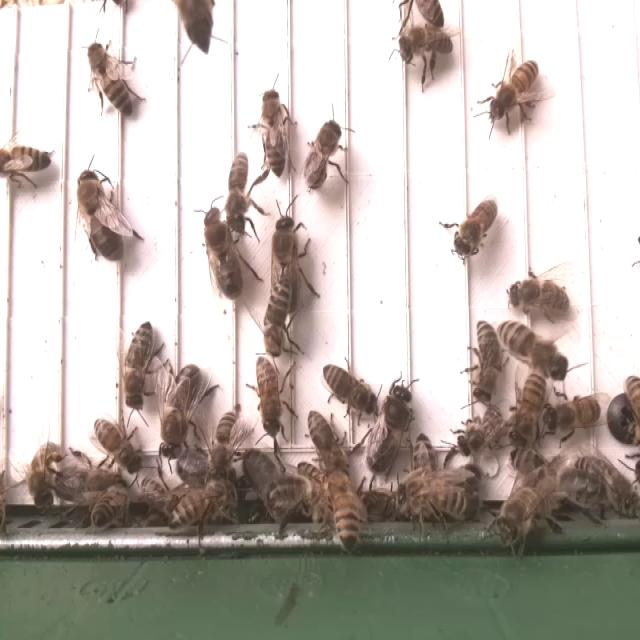Drone: (74, 164, 126, 263), (364, 381, 415, 479), (199, 207, 246, 302), (159, 363, 205, 458), (53, 460, 130, 508), (272, 212, 307, 314)
Worker: (497, 318, 567, 376), (484, 58, 542, 126), (86, 38, 134, 118), (118, 319, 157, 412), (320, 359, 381, 414), (451, 405, 507, 462), (466, 316, 502, 404), (505, 273, 573, 318), (304, 116, 344, 192), (450, 196, 498, 259), (92, 415, 141, 476), (395, 22, 457, 67), (253, 354, 285, 440), (307, 408, 345, 480), (511, 369, 545, 448), (260, 86, 289, 178), (209, 406, 244, 481), (262, 277, 294, 358), (0, 139, 52, 183), (226, 155, 254, 234), (546, 397, 602, 436)
